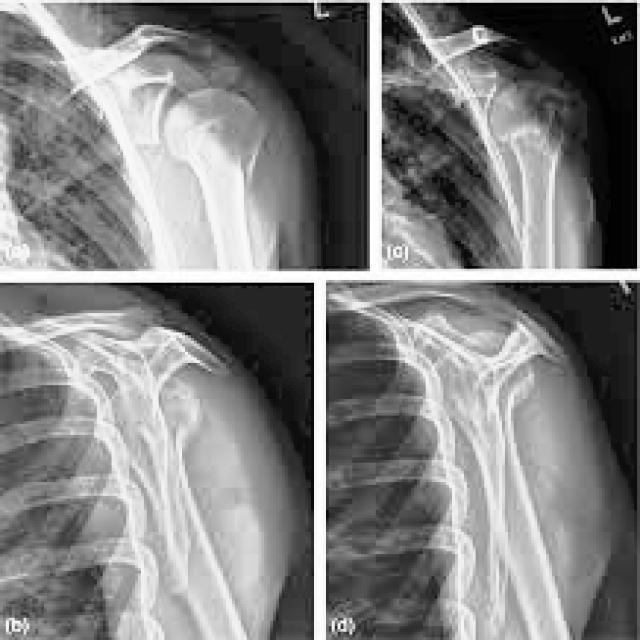Impact Fracture: (109, 314, 234, 396), (495, 311, 572, 393), (149, 69, 205, 160)
